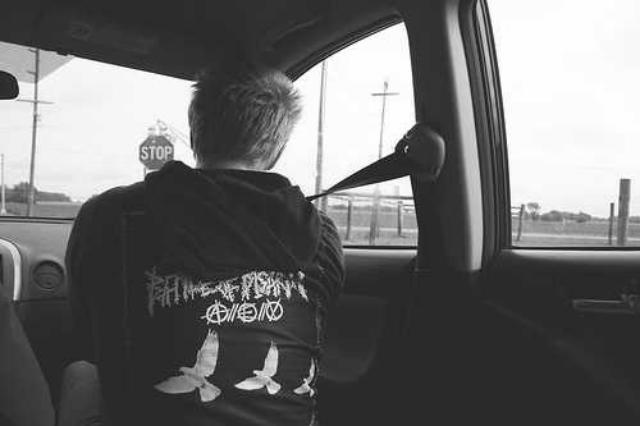Seatbelt: (304, 122, 446, 202)
